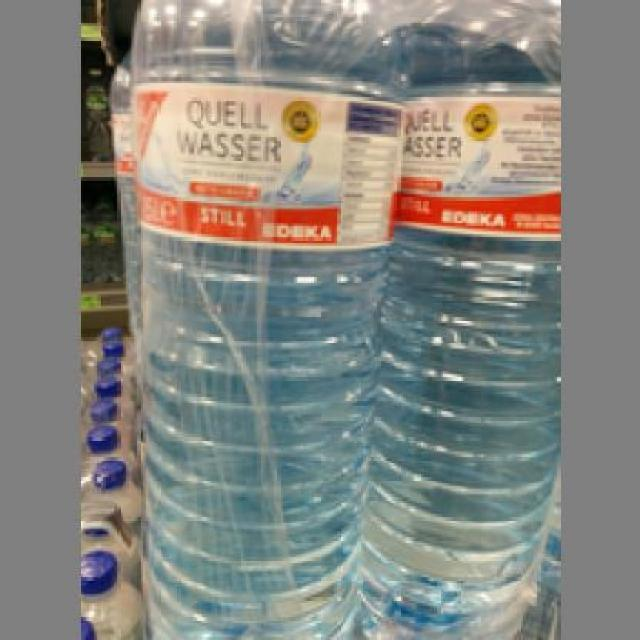Water: (128, 0, 414, 637), (357, 0, 554, 637)
